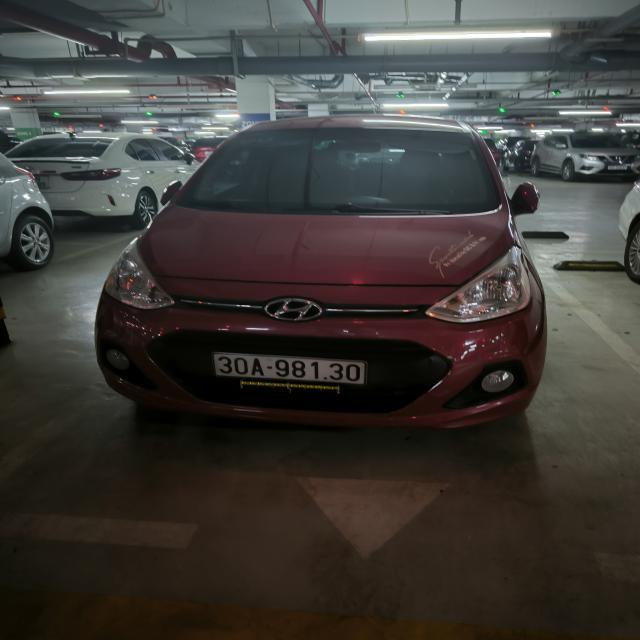license: (211, 351, 367, 386)
